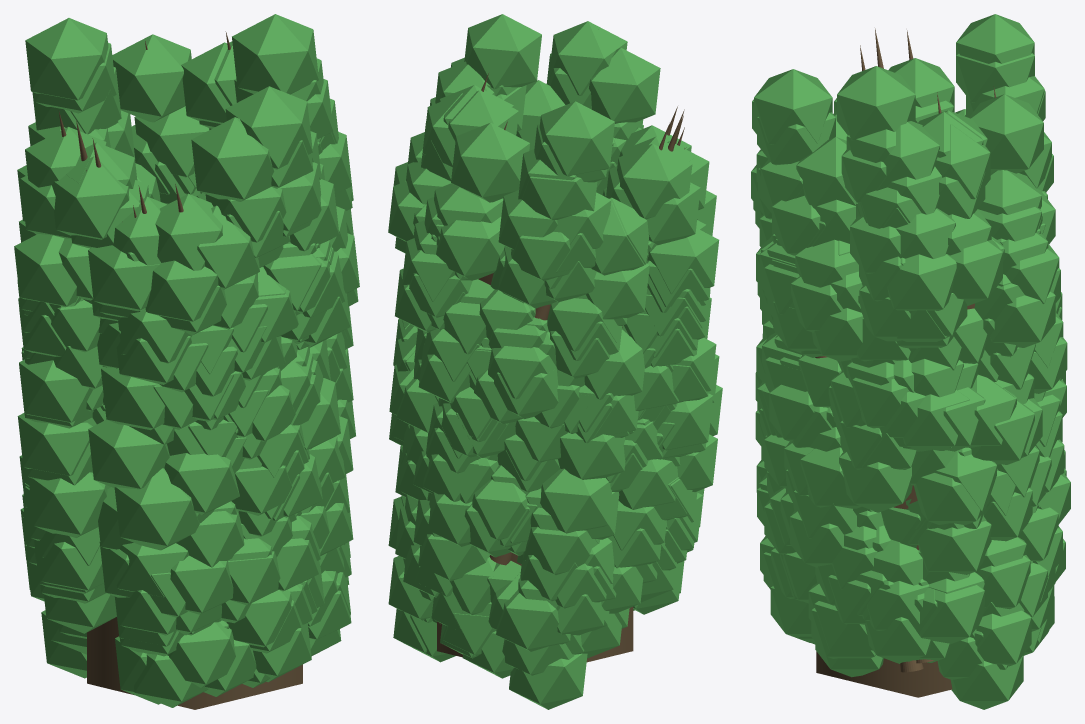
Rendered from tree_var_9143.glb.
3 views of the same model, side by side, from view 1: azimuth 30°, elevation 25°; view 2: azimuth 150°, elevation 25°; view 3: azimuth 270°, elevation 25° (orthographic). The views are drawn at different scales.
Visible parts, largest first — view 1: tree_var_9143; view 2: tree_var_9143; view 3: tree_var_9143.
Part boxes in pixels (x1,y1,x2,y2): tree_var_9143: [14, 14, 359, 709]; tree_var_9143: [388, 14, 722, 709]; tree_var_9143: [751, 14, 1070, 709].
Size of the model in its own units: 3.14 by 6.07 by 2.72.
